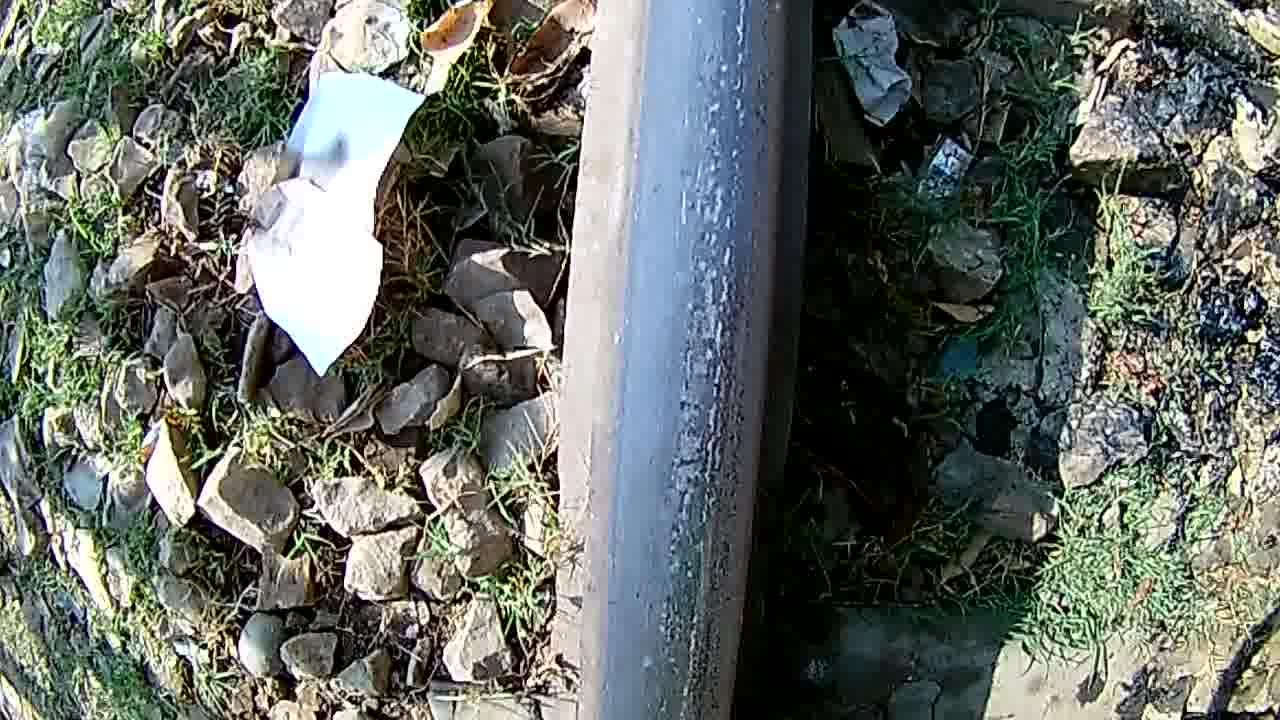clip_missing: (621, 0, 778, 720)
